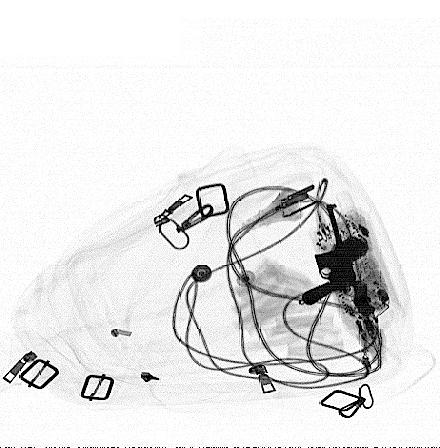Gun: (301, 200, 355, 306)
